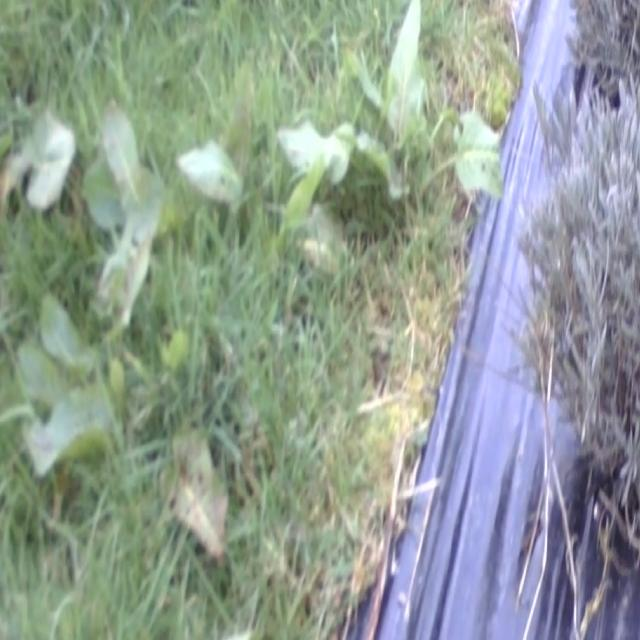organic waste: (273, 0, 516, 289), (0, 224, 196, 528), (50, 78, 220, 338), (184, 75, 303, 259), (0, 69, 96, 243)
